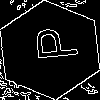P: (25, 25, 78, 63)
